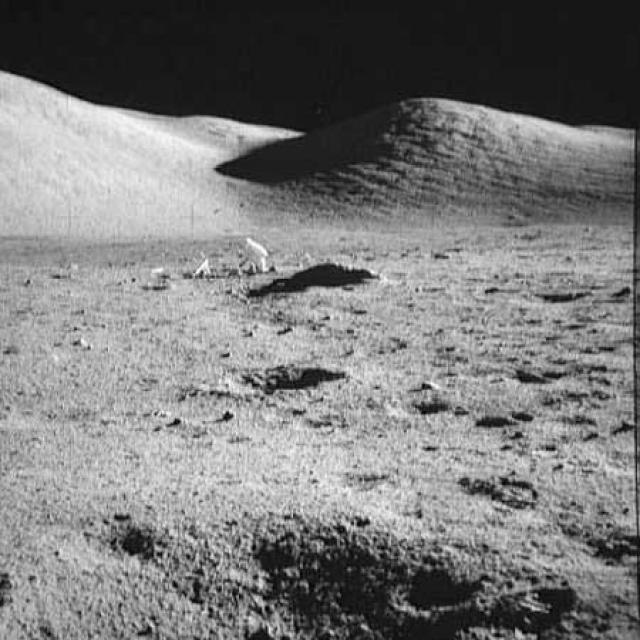artifact: (230, 229, 272, 277), (139, 268, 177, 291), (188, 254, 216, 278)
crater: (206, 361, 347, 394), (533, 284, 594, 306)
rock: (256, 261, 388, 295)
